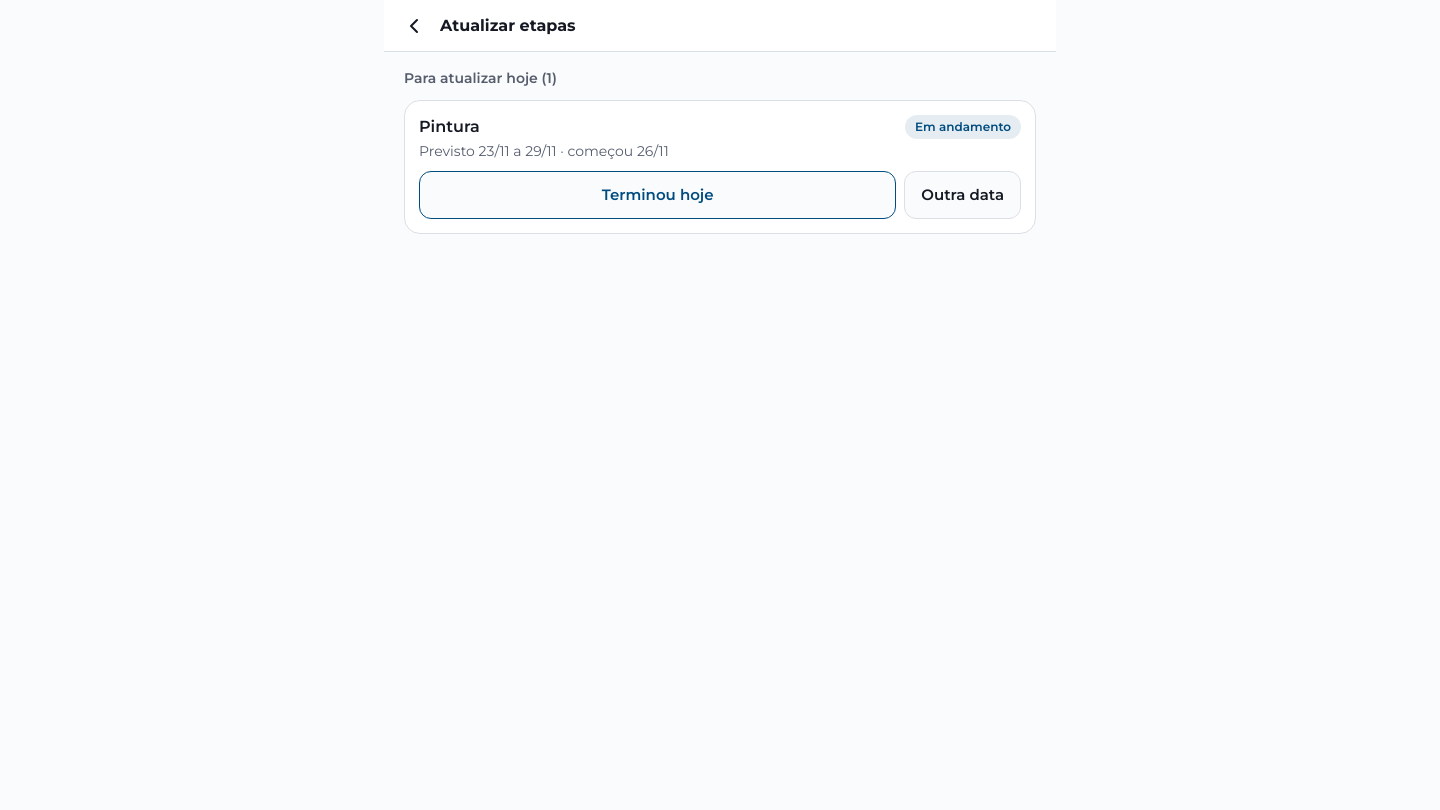
Atualizar etapas › gaveta: término antes do início não pode ser salvo e explica o motivo
Click the button "Outra data" at x=963, y=195, box [904,171,1021,219]
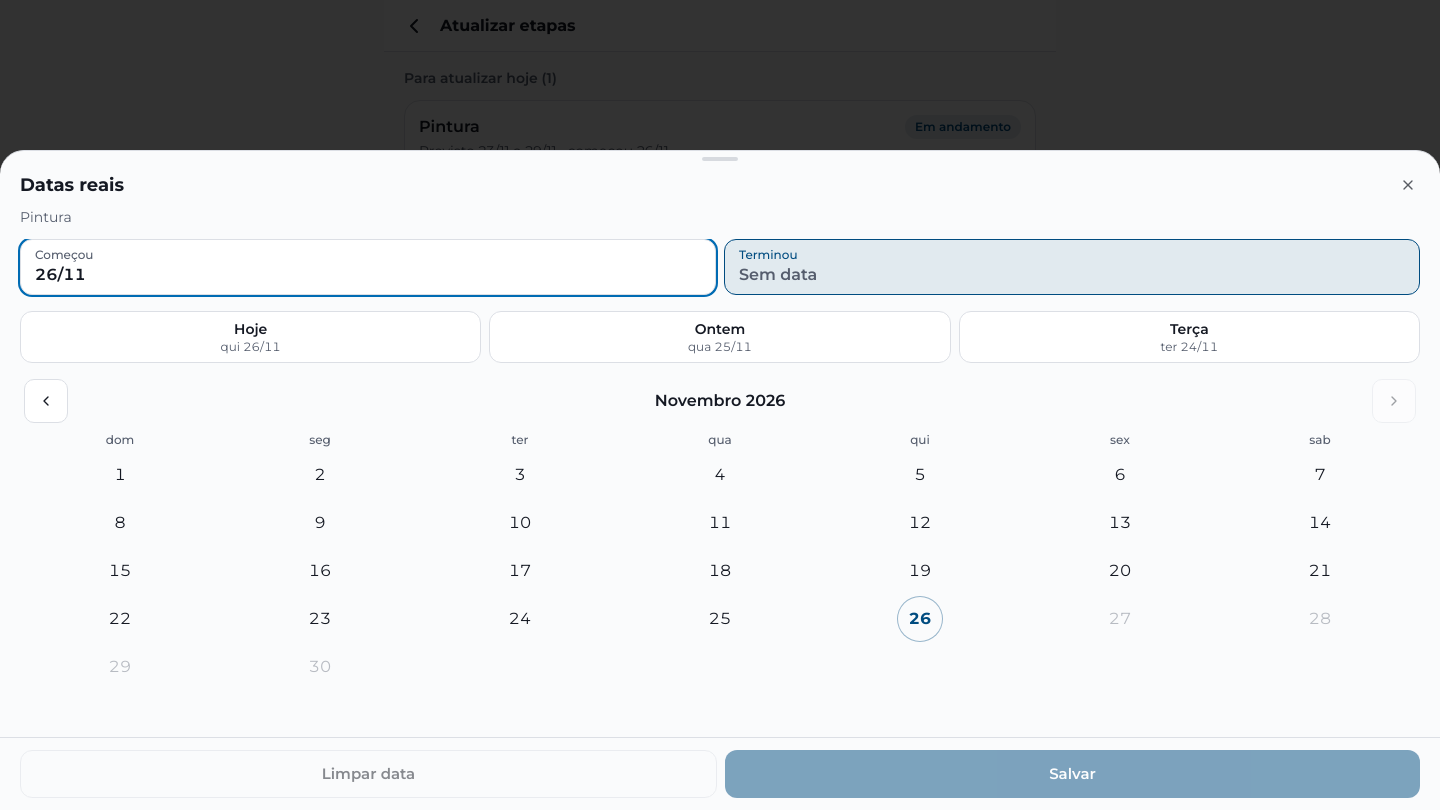
Click the button "Ontem qua 25/11" at x=720, y=337, box [489,311,951,363]
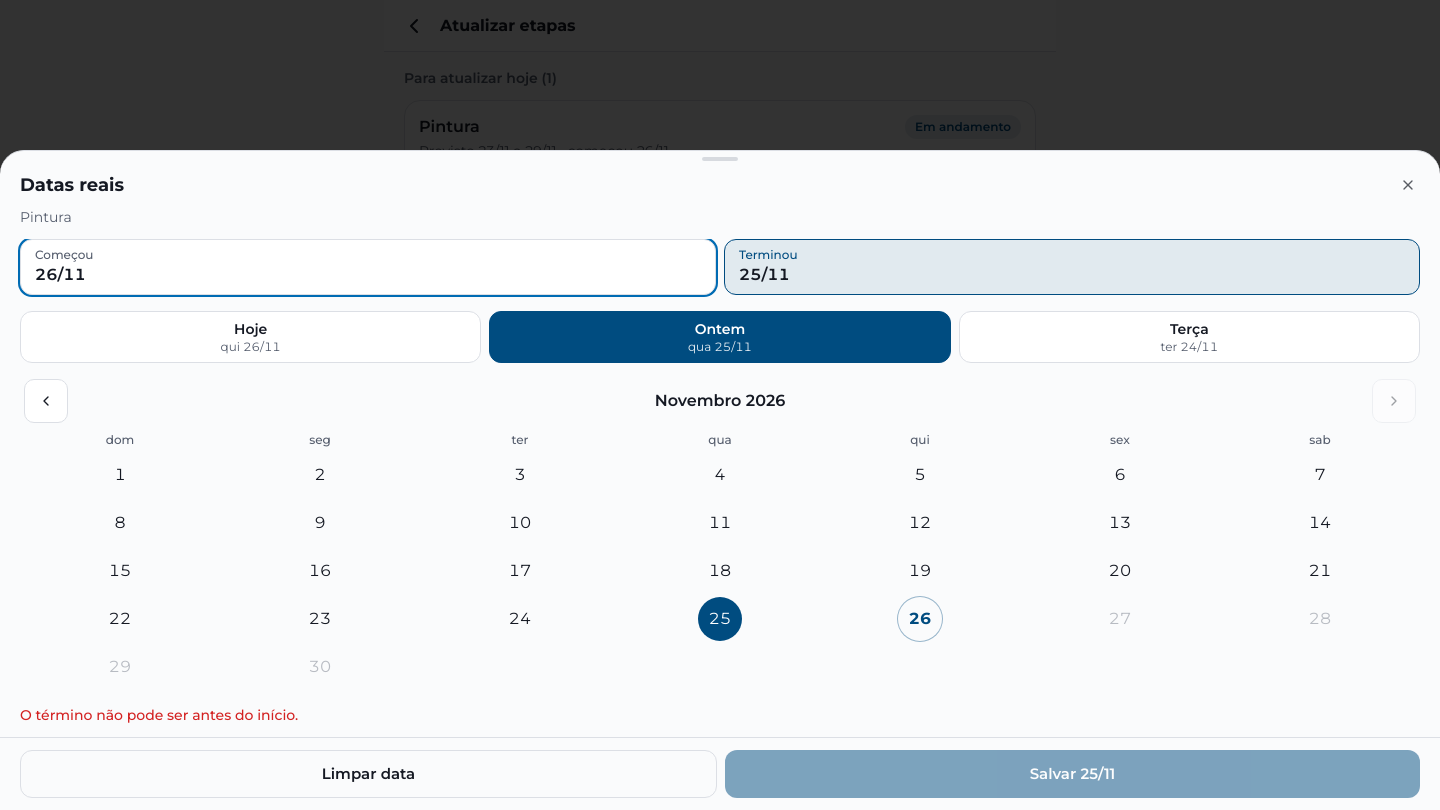
Expected: the button "Salvar 25/11" is disabled, [725,750,1420,798]
Expected: the message reads "O término não pode ser antes do início.", [20,706,298,724]
